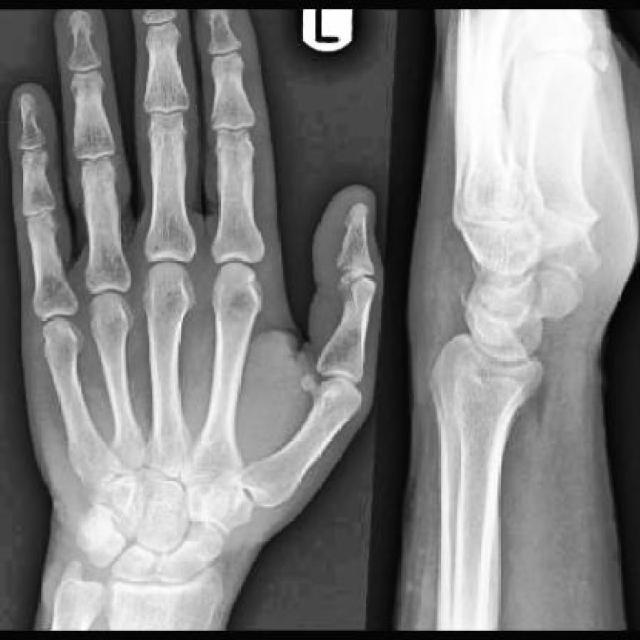Fracture: (75, 500, 123, 556), (452, 265, 489, 318)
